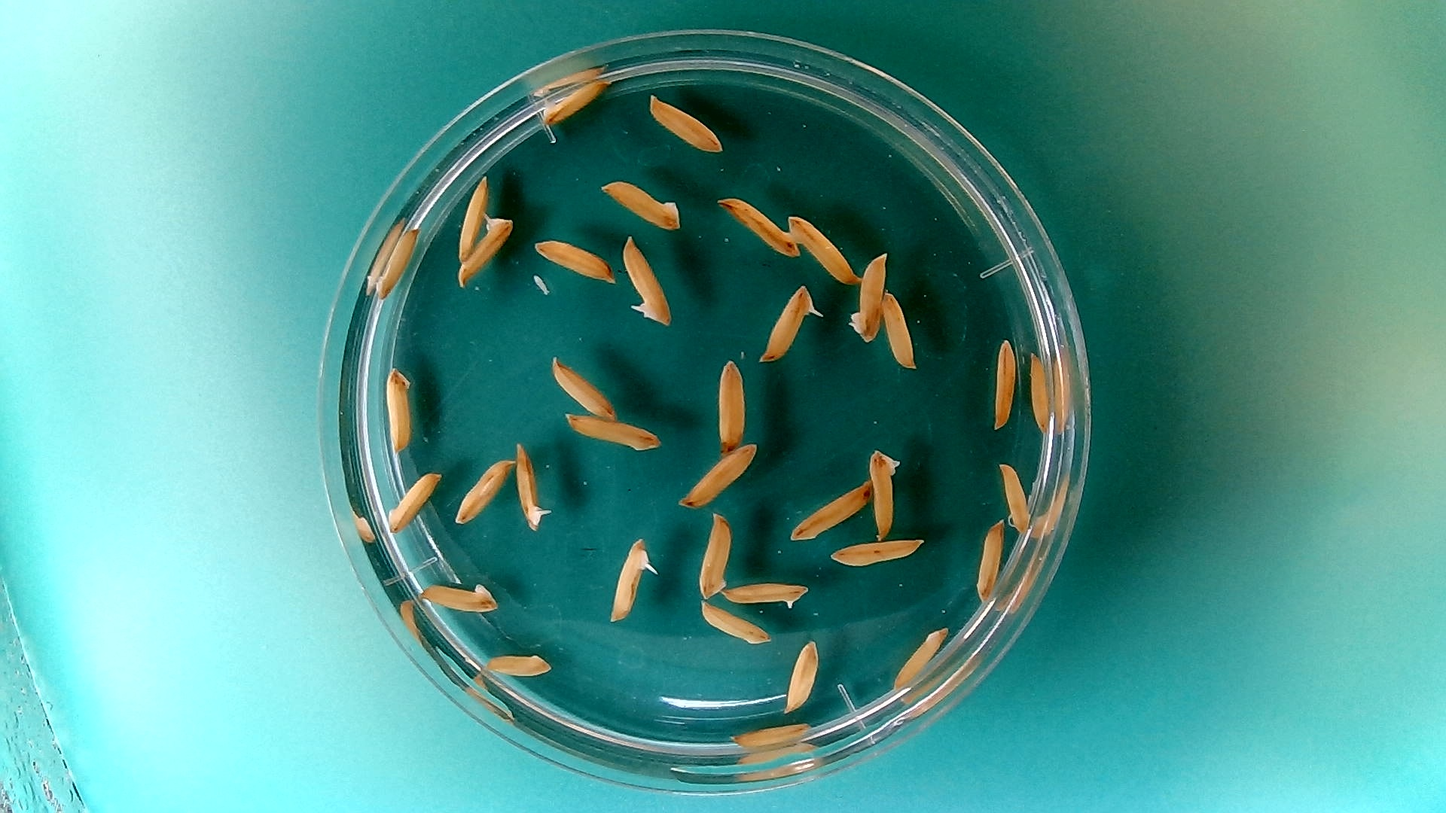no: (677, 437, 761, 507), (714, 193, 800, 257), (787, 212, 857, 285), (645, 92, 725, 154), (789, 482, 871, 542), (595, 174, 682, 230), (823, 530, 932, 574), (548, 354, 618, 419), (452, 455, 514, 526), (560, 410, 663, 452), (530, 236, 617, 283), (890, 623, 951, 690), (847, 248, 888, 345), (383, 467, 442, 534), (374, 223, 421, 300), (694, 510, 733, 599), (697, 600, 771, 645), (453, 173, 490, 262), (713, 356, 746, 453), (418, 577, 500, 615), (867, 447, 901, 538), (880, 289, 918, 370), (782, 637, 821, 714), (972, 517, 1006, 605), (384, 364, 416, 455), (990, 333, 1019, 431), (997, 459, 1033, 534), (729, 720, 812, 751), (482, 648, 555, 680), (1027, 349, 1053, 433)
yes: (758, 280, 822, 364), (620, 233, 673, 326), (606, 535, 660, 624), (535, 76, 612, 129), (456, 218, 516, 286), (512, 437, 554, 531), (723, 578, 809, 611)
